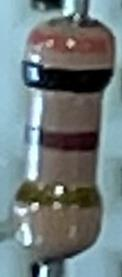Black: (24, 58, 114, 94)
Brown: (25, 126, 102, 152)
Orange: (26, 29, 114, 52)
Side-Gold: (10, 179, 105, 207)
